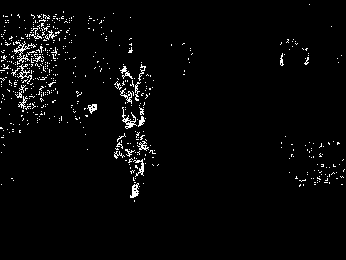person: (112, 120, 155, 203), (132, 62, 152, 129), (114, 67, 134, 126)
